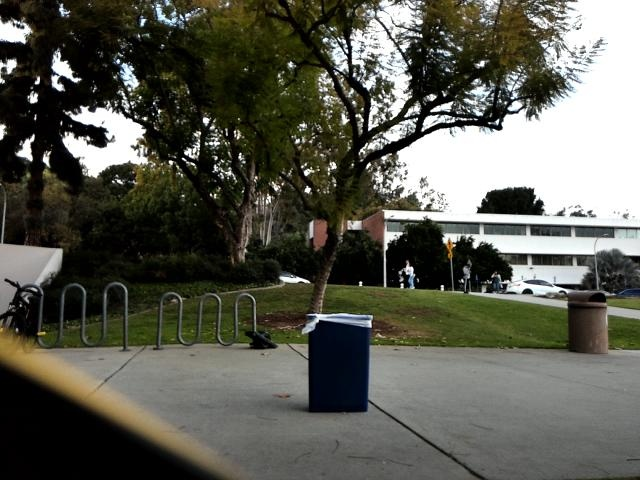trashcan_open: (291, 307, 376, 423)
